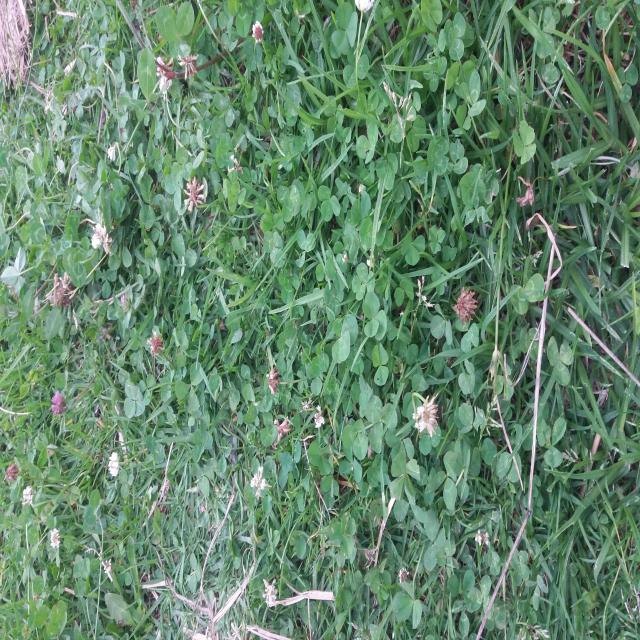Four Leaf Clover: (390, 451, 420, 501), (328, 511, 356, 559), (331, 314, 358, 363), (362, 291, 387, 341), (123, 379, 145, 418)
